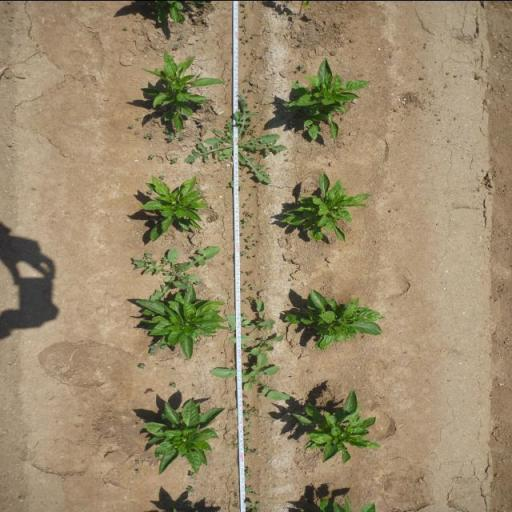plant: (136, 50, 230, 130), (282, 59, 370, 141), (280, 170, 374, 246), (292, 388, 381, 466), (283, 288, 387, 352), (142, 399, 226, 474), (133, 291, 228, 355), (138, 175, 210, 242), (141, 0, 187, 25), (316, 494, 378, 512)
weed: (182, 94, 291, 184), (134, 242, 224, 301), (214, 358, 288, 392), (227, 298, 276, 336), (231, 335, 285, 354), (242, 400, 258, 424), (243, 438, 259, 454), (178, 500, 196, 512), (244, 501, 262, 512), (226, 436, 238, 450), (245, 484, 256, 496), (242, 34, 254, 44), (142, 251, 156, 259), (243, 424, 252, 436), (166, 132, 176, 142), (244, 466, 252, 478), (149, 343, 157, 354), (143, 387, 155, 394), (242, 211, 253, 218), (246, 243, 258, 249), (239, 216, 248, 224), (245, 192, 253, 201), (242, 86, 254, 92), (228, 326, 236, 335), (192, 13, 198, 24), (244, 234, 252, 242), (226, 180, 234, 188), (138, 362, 146, 369), (243, 280, 252, 286), (144, 132, 153, 138), (240, 249, 247, 256), (247, 296, 255, 302), (246, 269, 254, 275), (147, 153, 155, 159), (171, 43, 179, 49), (190, 471, 196, 479), (187, 486, 195, 492), (239, 0, 247, 6), (170, 381, 176, 388), (241, 344, 248, 350), (239, 230, 246, 236), (238, 184, 244, 191), (238, 164, 245, 170), (171, 156, 177, 163), (177, 352, 183, 358), (170, 366, 176, 372), (242, 298, 248, 304), (179, 133, 185, 139), (247, 354, 253, 360), (134, 468, 140, 474), (298, 40, 304, 46), (242, 393, 248, 398), (240, 288, 246, 293), (243, 12, 248, 18), (285, 256, 290, 262), (179, 33, 185, 38), (122, 25, 128, 30), (242, 224, 248, 228), (242, 202, 246, 208), (134, 460, 140, 464), (253, 239, 260, 242), (250, 287, 256, 290), (242, 178, 248, 181), (127, 124, 132, 127), (242, 314, 248, 316), (253, 254, 259, 256), (246, 256, 252, 258), (242, 8, 247, 10)
